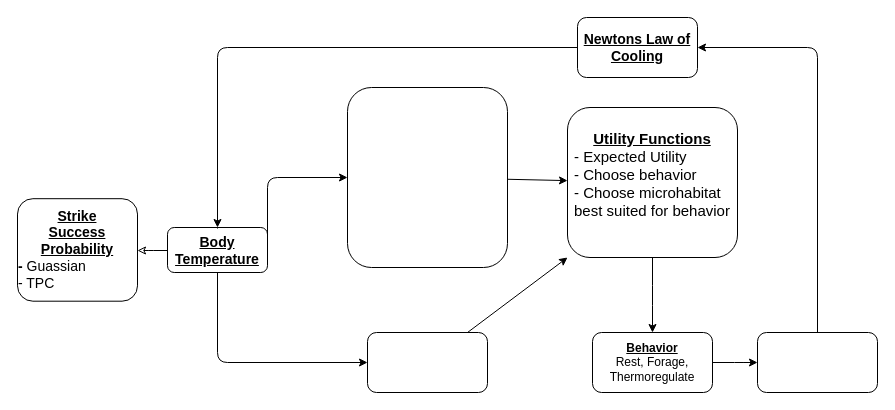
This 895x410 diagram has some shape labels left out. The shapes that lost their labels are listed below. From the top down, each one's box as (x1, y1, x2, y2) in pixels, then its label:
(346, 86, 508, 268): Metabolism Units: Cal/gram In: - krats - Pr(other) Out: - SMR(T_Body)
(366, 332, 488, 392): Thermal Condition Distance from topt
(756, 332, 878, 392): Microhabitat (T_env)
